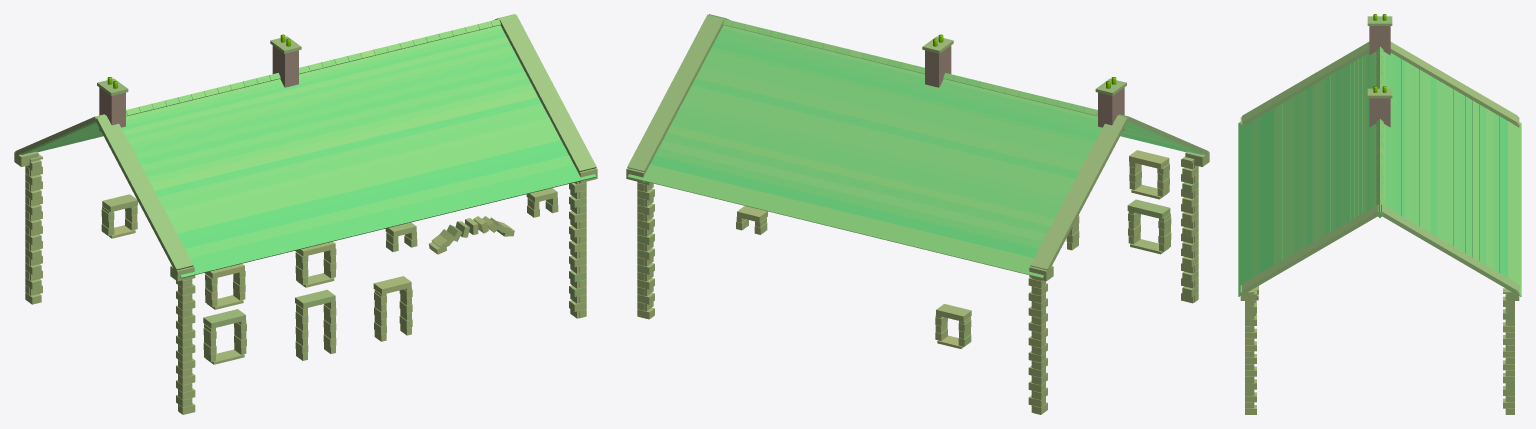
File: SM_Bld_147_Stone.glb
3 renders of one model, left to right at view 1: azimuth 30°, elevation 25°; view 2: azimuth 150°, elevation 25°; view 3: azimuth 270°, elevation 25°, orthographic. The views are drawn at different scales.
Parts seen in each view (by area): view 1: SM_Bld_147_Stone; view 2: SM_Bld_147_Stone; view 3: SM_Bld_147_Stone.
Boxes of the visible parts, x1,y1,x2,y2 form: SM_Bld_147_Stone: [14, 14, 597, 414]; SM_Bld_147_Stone: [626, 14, 1209, 414]; SM_Bld_147_Stone: [1238, 14, 1521, 414].
Bounding box in the file's own units: 17.75 × 11.09 × 12.11.
